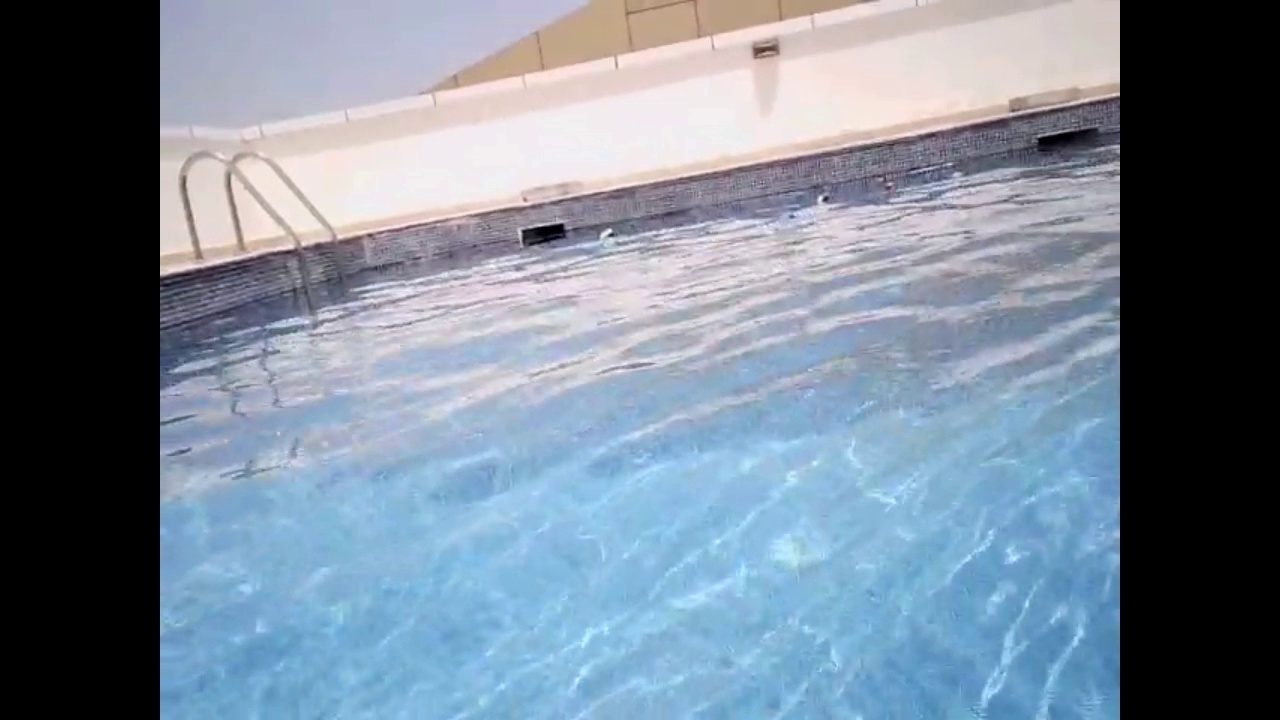debris: (595, 221, 616, 246), (811, 189, 834, 209), (878, 179, 902, 195)
